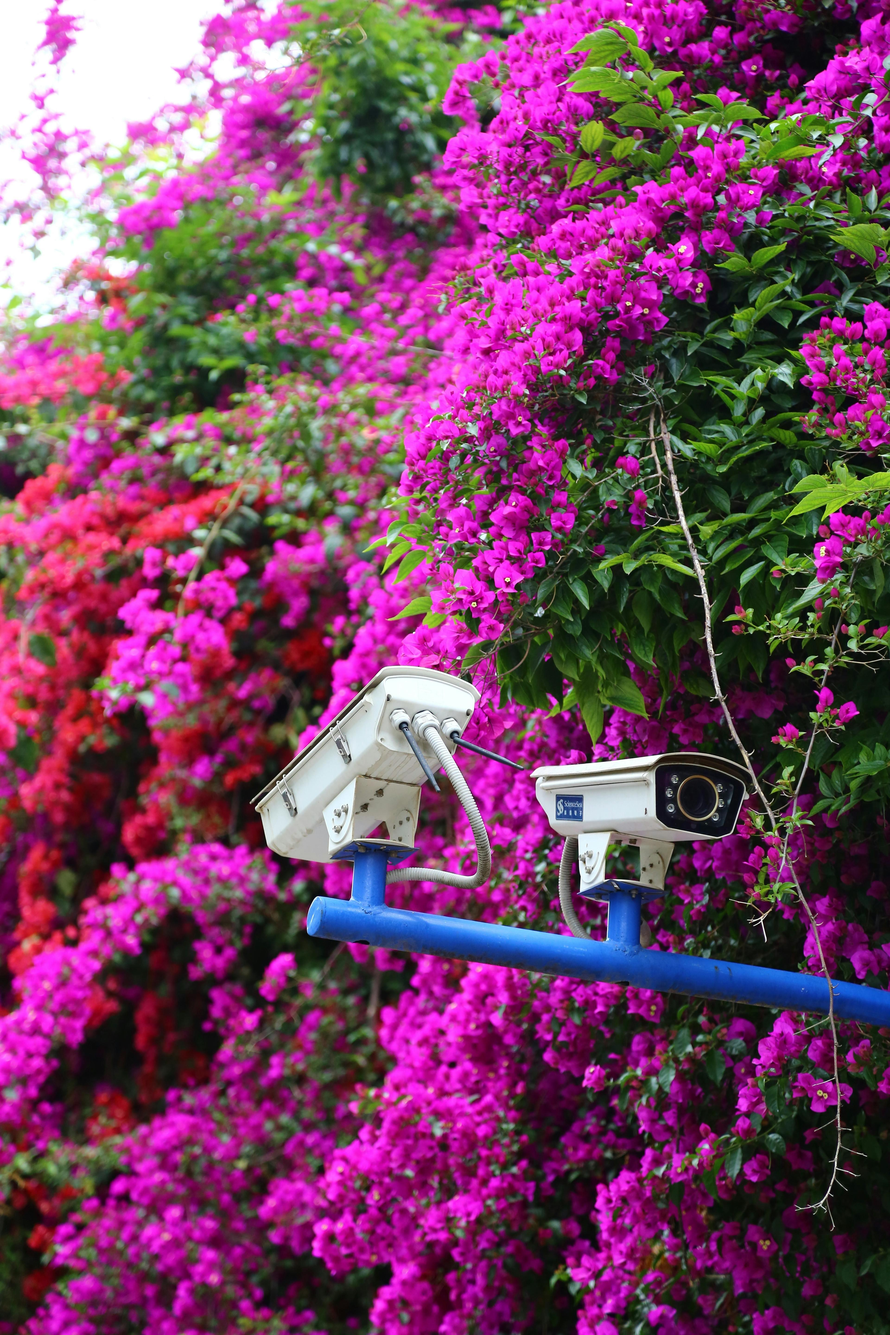camera: (508, 626, 774, 980), (246, 617, 491, 948)
